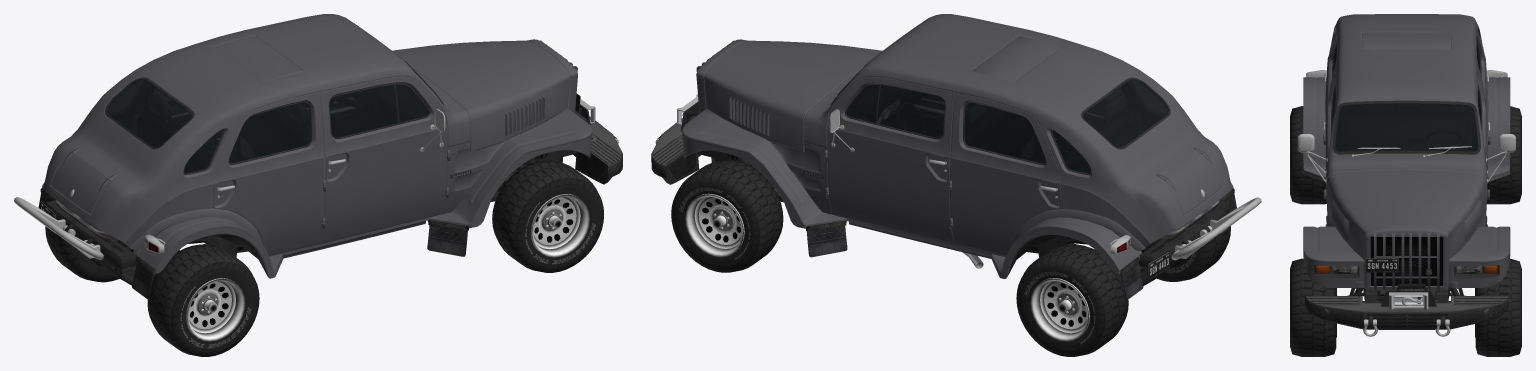
The model's file is suggan_53_modified_-_low_poly_model.glb.
3 views of the same model, side by side, from view 1: azimuth 30°, elevation 25°; view 2: azimuth 150°, elevation 25°; view 3: azimuth 270°, elevation 25° (orthographic). The views are drawn at different scales.
Visible parts, largest first — view 1: SUGNCST_BODY_SUGNCST_Bodymat_0, SUGNCST_HOOD_SUGNCST_Bodymat_0, SUGNCST_WheelStock_FR_RO1a_Tire_0, SUGNCST_WheelStock_RR_RO1a_Tire_0, SUGNCST_INTERIOR_UCB_Interiors_2_0, SUGNCST_BOTTOM_UCB_BOTTOM_0, SUGNCST_GLASS_Body_UCB_Lights_and_Glass_Transperent_0, SUGNCST_GLASS_Passanger_UCB_Lights_and_Glass_Transperent_0, SUGNCST_GLASS_Rear_UCB_Lights_and_Glass_Transperent_0, SUGNCST_BUMPER_REAR_UCB_BOTTOM_0, SUGNCST_BUMPER_FRONT_UCB_BOTTOM_0, SUGNCST_WheelStock_RL_RO1a_Tire_0; view 2: SUGNCST_BODY_SUGNCST_Bodymat_0, SUGNCST_HOOD_SUGNCST_Bodymat_0, SUGNCST_WheelStock_FL_RO1a_Tire_0, SUGNCST_WheelStock_RL_RO1a_Tire_0, SUGNCST_INTERIOR_UCB_Interiors_2_0, SUGNCST_BOTTOM_UCB_BOTTOM_0, SUGNCST_GLASS_Body_UCB_Lights_and_Glass_Transperent_0, SUGNCST_GLASS_Driver_UCB_Lights_and_Glass_Transperent_0, SUGNCST_GLASS_Rear_UCB_Lights_and_Glass_Transperent_0, SUGNCST_BUMPER_REAR_UCB_BOTTOM_0, SUGNCST_BUMPER_FRONT_UCB_BOTTOM_0, SUGNCST_WheelStock_RR_RO1a_Tire_0; view 3: SUGNCST_BODY_SUGNCST_Bodymat_0, SUGNCST_HOOD_SUGNCST_Bodymat_0, SUGNCST_Windshield_UCB_Lights_and_Glass_Transperent_0, SUGNCST_BUMPER_FRONT_UCB_BOTTOM_0, SUGNCST_BOTTOM_UCB_BOTTOM_0, SUGNCST_INTERIOR_UCB_Interiors_2_0, SUGNCST_WheelStock_FR_RO1a_Tire_0, SUGNCST_WheelStock_FL_RO1a_Tire_0, SUGNCST_WheelStock_RR_RO1a_Tire_0, SUGNCST_WheelStock_RL_RO1a_Tire_0, SUGNCST_BUMPER_FRONT_NUMBERPLATE_Numberplates_Misk_U_0, SUGNCST_HEADLIGHTS_UCB_Lights_and_Glass_0 (+2 smaller).
Boxes of the visible parts, x1,y1,x2,y2 form: SUGNCST_BODY_SUGNCST_Bodymat_0: (42,14,592,278); SUGNCST_HOOD_SUGNCST_Bodymat_0: (392,40,570,151); SUGNCST_WheelStock_FR_RO1a_Tire_0: (492,160,603,272); SUGNCST_WheelStock_RR_RO1a_Tire_0: (147,244,259,356); SUGNCST_INTERIOR_UCB_Interiors_2_0: (112,83,426,172); SUGNCST_BOTTOM_UCB_BOTTOM_0: (38,30,587,298); SUGNCST_GLASS_Body_UCB_Lights_and_Glass_Transperent_0: (108,81,310,173); SUGNCST_GLASS_Passanger_UCB_Lights_and_Glass_Transperent_0: (329,85,427,137); SUGNCST_GLASS_Rear_UCB_Lights_and_Glass_Transperent_0: (106,79,192,147); SUGNCST_BUMPER_REAR_UCB_BOTTOM_0: (14,197,135,268); SUGNCST_BUMPER_FRONT_UCB_BOTTOM_0: (573,99,622,184); SUGNCST_WheelStock_RL_RO1a_Tire_0: (45,226,136,282); SUGNCST_BODY_SUGNCST_Bodymat_0: (682,14,1233,278); SUGNCST_HOOD_SUGNCST_Bodymat_0: (704,40,882,151); SUGNCST_WheelStock_FL_RO1a_Tire_0: (671,160,783,272); SUGNCST_WheelStock_RL_RO1a_Tire_0: (1016,244,1128,356); SUGNCST_INTERIOR_UCB_Interiors_2_0: (847,83,1162,172); SUGNCST_BOTTOM_UCB_BOTTOM_0: (687,30,1236,299); SUGNCST_GLASS_Body_UCB_Lights_and_Glass_Transperent_0: (964,81,1167,173); SUGNCST_GLASS_Driver_UCB_Lights_and_Glass_Transperent_0: (846,85,944,137); SUGNCST_GLASS_Rear_UCB_Lights_and_Glass_Transperent_0: (1083,79,1168,147); SUGNCST_BUMPER_REAR_UCB_BOTTOM_0: (1140,197,1261,281); SUGNCST_BUMPER_FRONT_UCB_BOTTOM_0: (651,94,700,184); SUGNCST_WheelStock_RR_RO1a_Tire_0: (1139,226,1230,281); SUGNCST_BODY_SUGNCST_Bodymat_0: (1303,14,1510,291); SUGNCST_HOOD_SUGNCST_Bodymat_0: (1327,170,1486,259); SUGNCST_Windshield_UCB_Lights_and_Glass_Transperent_0: (1335,103,1477,151); SUGNCST_BUMPER_FRONT_UCB_BOTTOM_0: (1305,284,1508,336); SUGNCST_BOTTOM_UCB_BOTTOM_0: (1297,43,1515,303); SUGNCST_INTERIOR_UCB_Interiors_2_0: (1334,56,1479,151); SUGNCST_WheelStock_FR_RO1a_Tire_0: (1290,258,1336,356); SUGNCST_WheelStock_FL_RO1a_Tire_0: (1475,258,1521,356); SUGNCST_WheelStock_RR_RO1a_Tire_0: (1290,106,1326,204); SUGNCST_WheelStock_RL_RO1a_Tire_0: (1486,106,1521,204); SUGNCST_BUMPER_FRONT_NUMBERPLATE_Numberplates_Misk_U_0: (1365,258,1398,272); SUGNCST_HEADLIGHTS_UCB_Lights_and_Glass_0: (1331,266,1481,273).
Bounding box in the file's own units: 5.31 × 2.07 × 2.1.
Materials: 8 (7 with a texture image).
